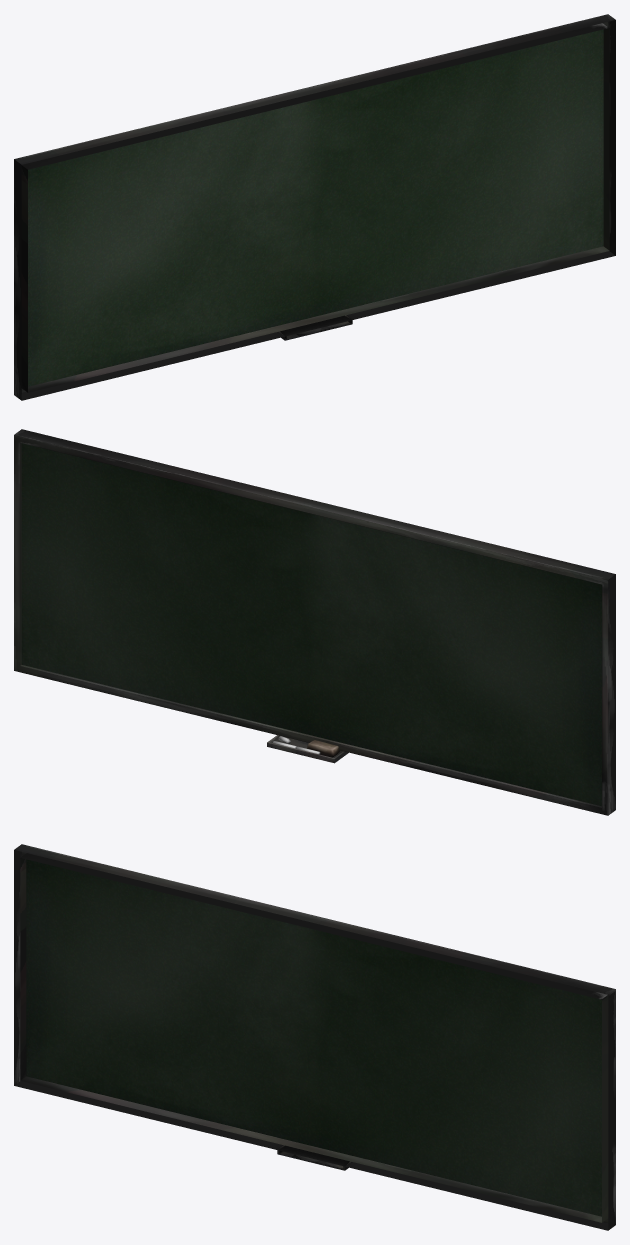
Rendered from Board.fbx.
3 renders of one model, top to bottom at view 1: azimuth 30°, elevation 25°; view 2: azimuth 150°, elevation 25°; view 3: azimuth 330°, elevation 25°, orthographic.
Visible parts, largest first — view 1: Collection|board_L_board.blend|Dupli|.001, Collection|board_L_board.blend|Dupli|; view 2: Collection|board_L_board.blend|Dupli|.001, Collection|board_L_board.blend|Dupli|, Collection|board_L_board.blend|Dupli|.002; view 3: Collection|board_L_board.blend|Dupli|.001, Collection|board_L_board.blend|Dupli|.
Part boxes in pixels (box(x1,y1,x2,y2)): Collection|board_L_board.blend|Dupli|.001: box(28, 29, 603, 386); Collection|board_L_board.blend|Dupli|: box(14, 14, 615, 400); Collection|board_L_board.blend|Dupli|.001: box(21, 443, 601, 806); Collection|board_L_board.blend|Dupli|: box(14, 429, 615, 815); Collection|board_L_board.blend|Dupli|.002: box(267, 735, 348, 763); Collection|board_L_board.blend|Dupli|.001: box(26, 859, 601, 1216); Collection|board_L_board.blend|Dupli|: box(14, 844, 615, 1230).
Bounding box in the file's own units: 435 × 168 × 22.97.
